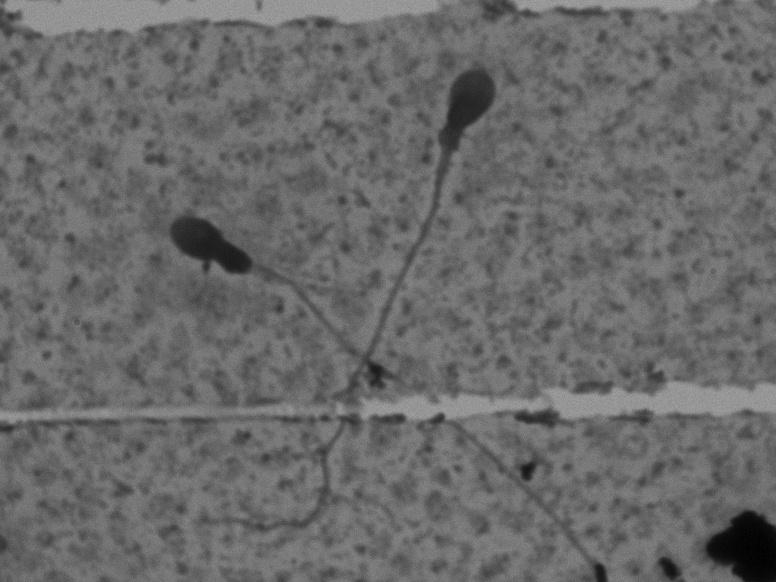Abnormal: (151, 192, 606, 567), (178, 50, 524, 543)
